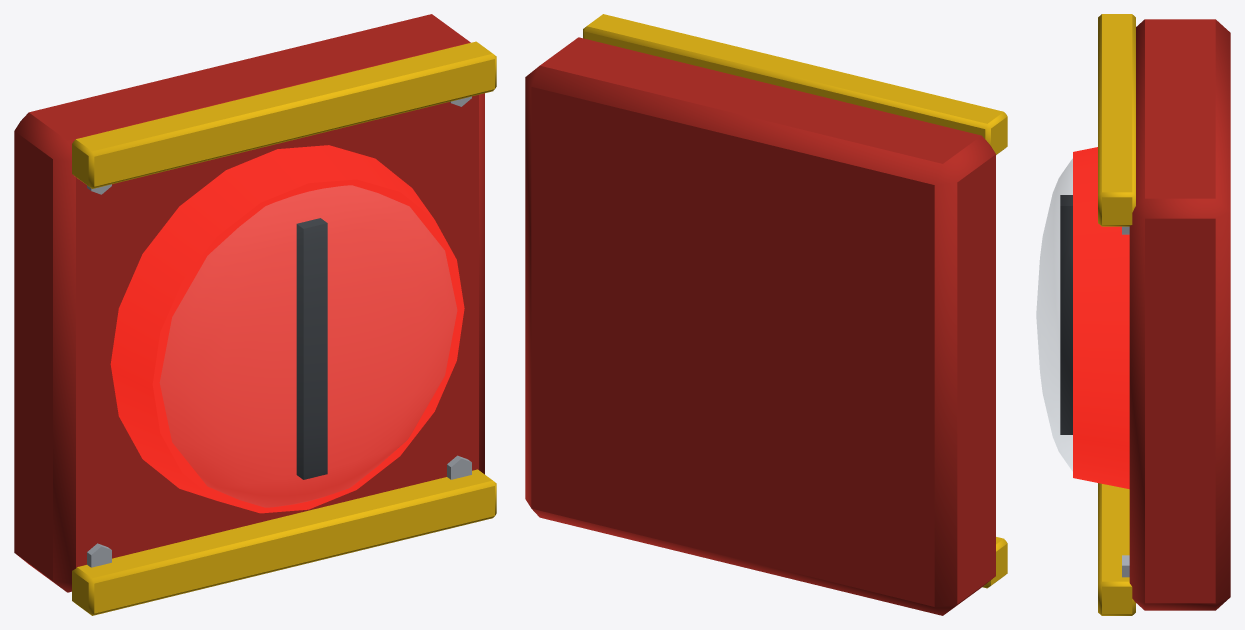
Rendered from warnlight_red_alert_wall_unit.glb.
3 views of the same model, side by side, from view 1: azimuth 30°, elevation 25°; view 2: azimuth 150°, elevation 25°; view 3: azimuth 270°, elevation 25° (orthographic). The views are drawn at different scales.
Visible parts, largest first — view 1: warnlight_red_alert_wall_unit; view 2: warnlight_red_alert_wall_unit; view 3: warnlight_red_alert_wall_unit.
Part boxes in pixels (x1,y1,x2,y2): warnlight_red_alert_wall_unit: (14, 14, 496, 615); warnlight_red_alert_wall_unit: (525, 14, 1007, 615); warnlight_red_alert_wall_unit: (1036, 14, 1230, 615).
Bounding box in the file's own units: 0.36 × 0.37 × 0.154.
